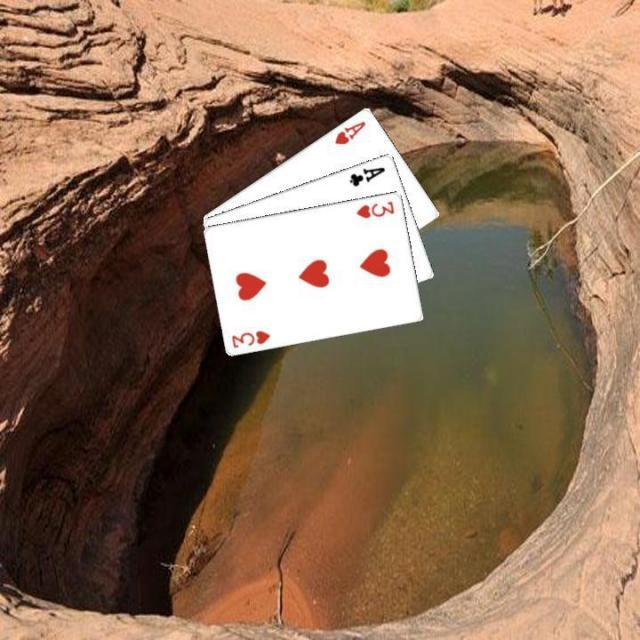3H: (228, 327, 272, 350), (353, 198, 397, 220)
AC: (346, 163, 387, 189)
AH: (331, 116, 369, 146)
